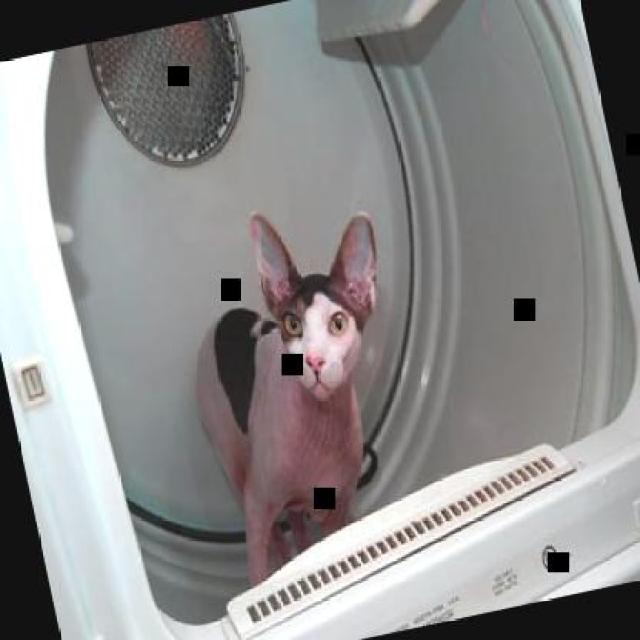cat: (157, 186, 441, 594)
